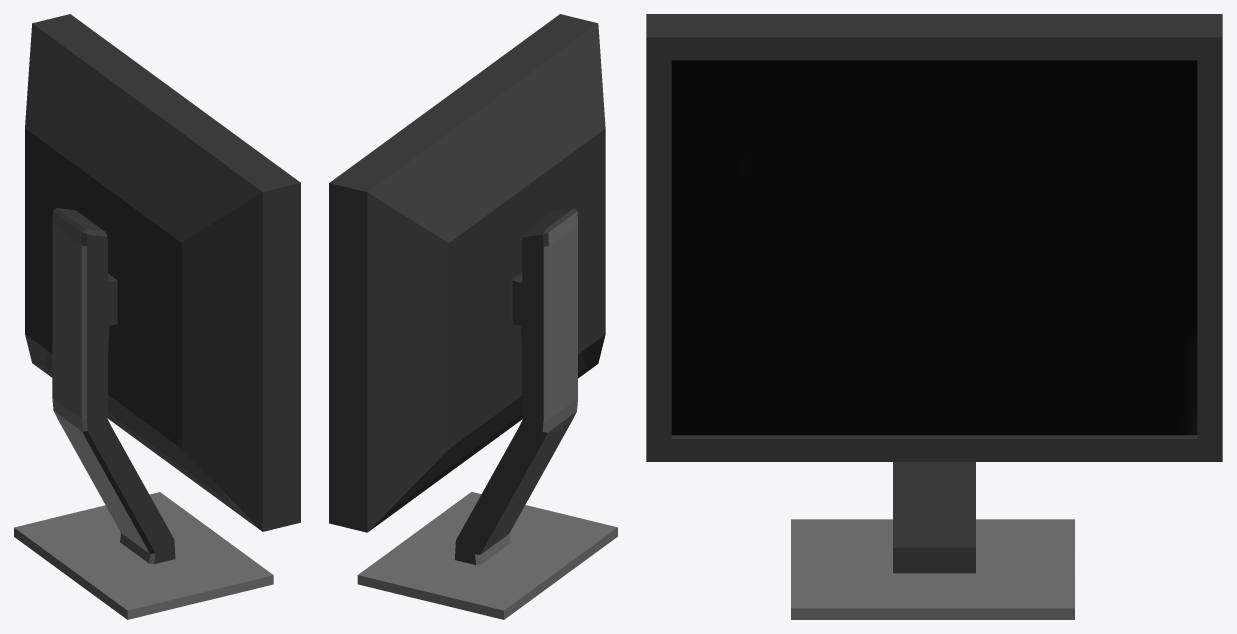
The model's file is monitor.glb.
3 renders of one model, left to right at view 1: azimuth 30°, elevation 25°; view 2: azimuth 150°, elevation 25°; view 3: azimuth 270°, elevation 25°, orthographic. The views are drawn at different scales.
Visible parts, largest first — view 1: Monitor; view 2: Monitor; view 3: Monitor.
Boxes of the visible parts, <box> form: Monitor: <box>14,14,300,619</box>; Monitor: <box>329,14,617,619</box>; Monitor: <box>646,14,1222,619</box>.
Size of the model in its own units: 0.9194 by 2.66 by 2.46.
Materials: 1 (1 with a texture image).
